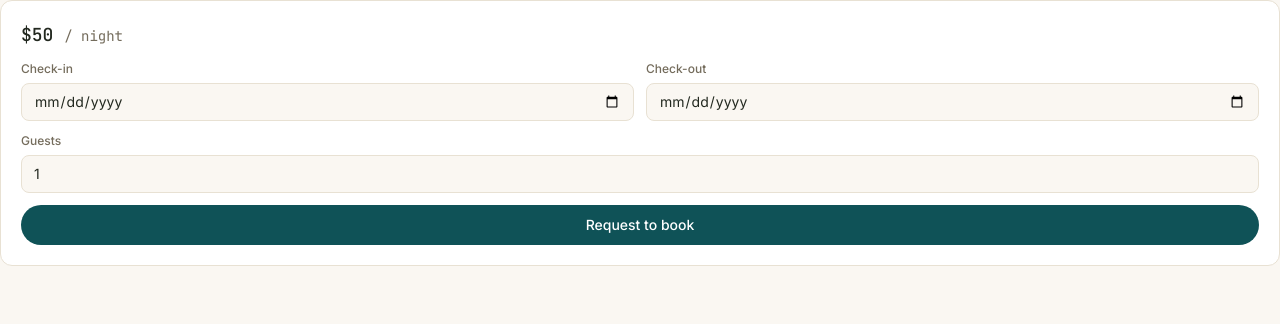
Test case: BookingForm › shows the calculated total once both dates are filled in
In the date field labelled "Check-in": x=328, y=102 [21,83,634,121], type "2030-06-10"
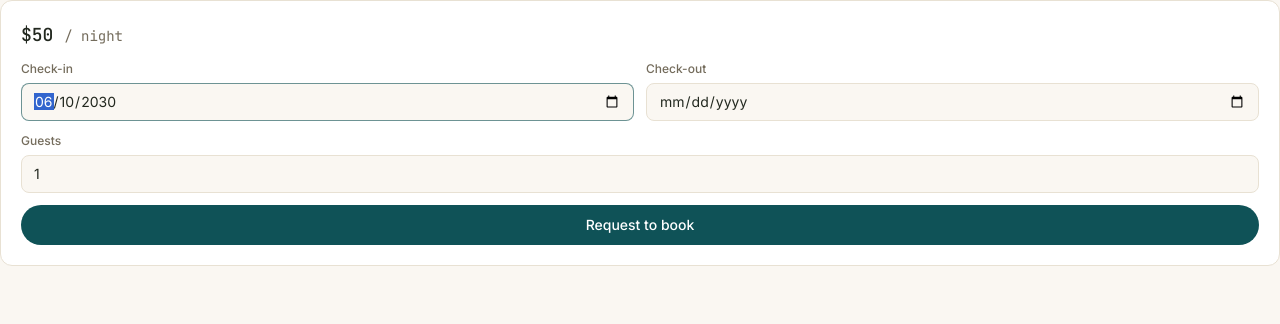
In the date field labelled "Check-out": x=952, y=102 [646,83,1259,121], type "2030-06-13"
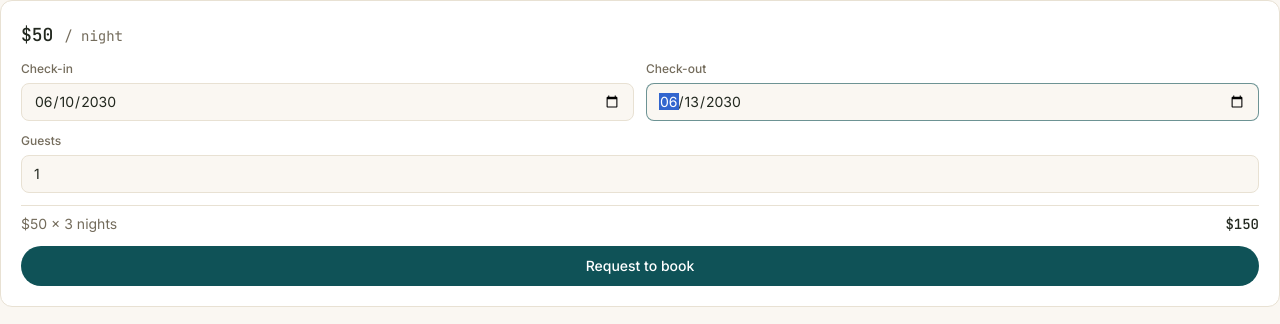
Expected: the text "$150" is shown, [1225,214,1259,234]
